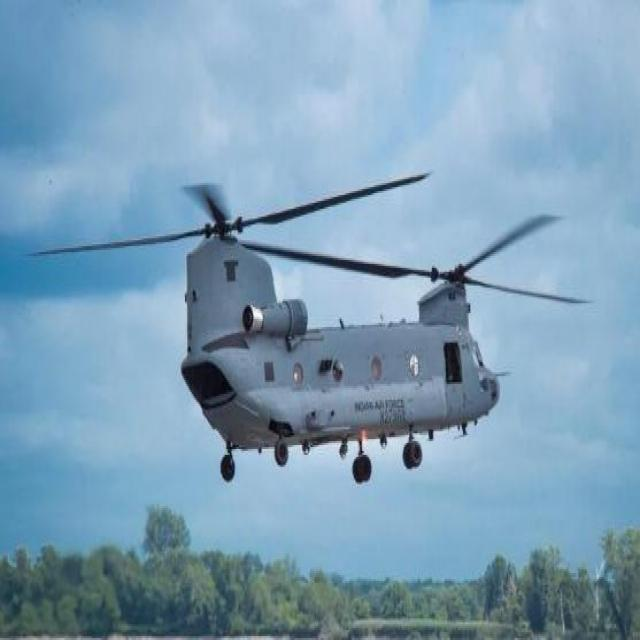MIL_HELO: (28, 163, 593, 492)
